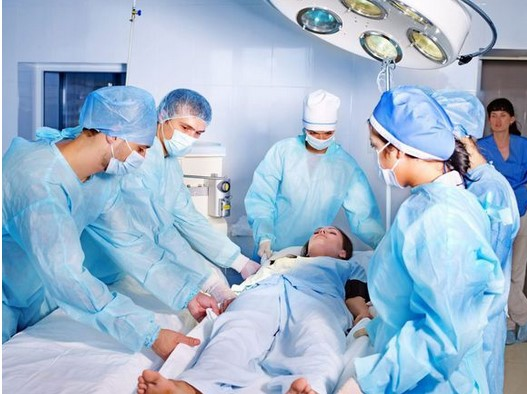face_no_mask: (306, 223, 356, 260), (487, 98, 515, 132)
face_with_mask: (367, 88, 452, 189), (86, 85, 153, 176), (155, 88, 213, 156), (301, 87, 341, 150)
